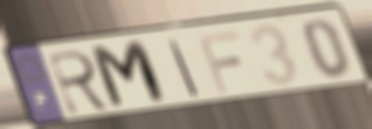0: (299, 16, 355, 83)
3: (249, 21, 303, 90)
F: (195, 29, 243, 95)
I: (166, 37, 202, 98)
M: (86, 37, 172, 113)
R: (45, 48, 115, 118)
